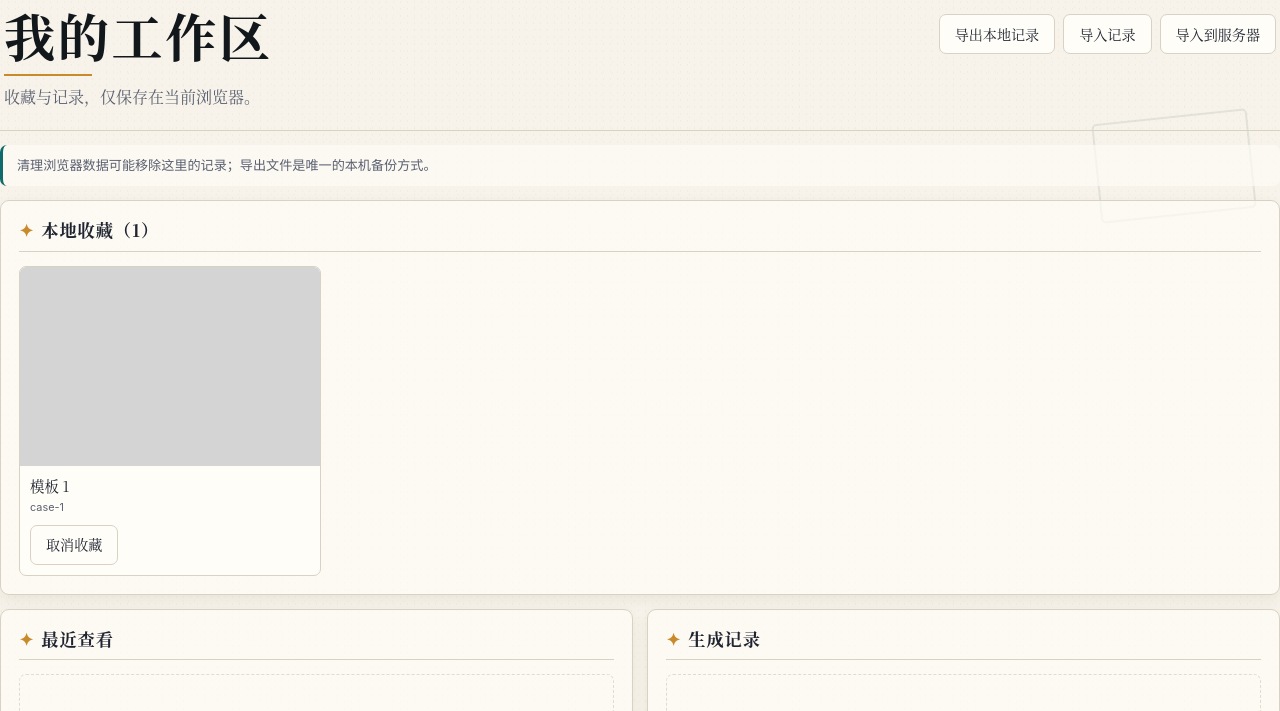
WorkspacePage (U10) › imports the local record to the server explicitly and renders the per-item report
Click the button with class "workspace__server-import": (1218, 34) [1160,14,1276,54]
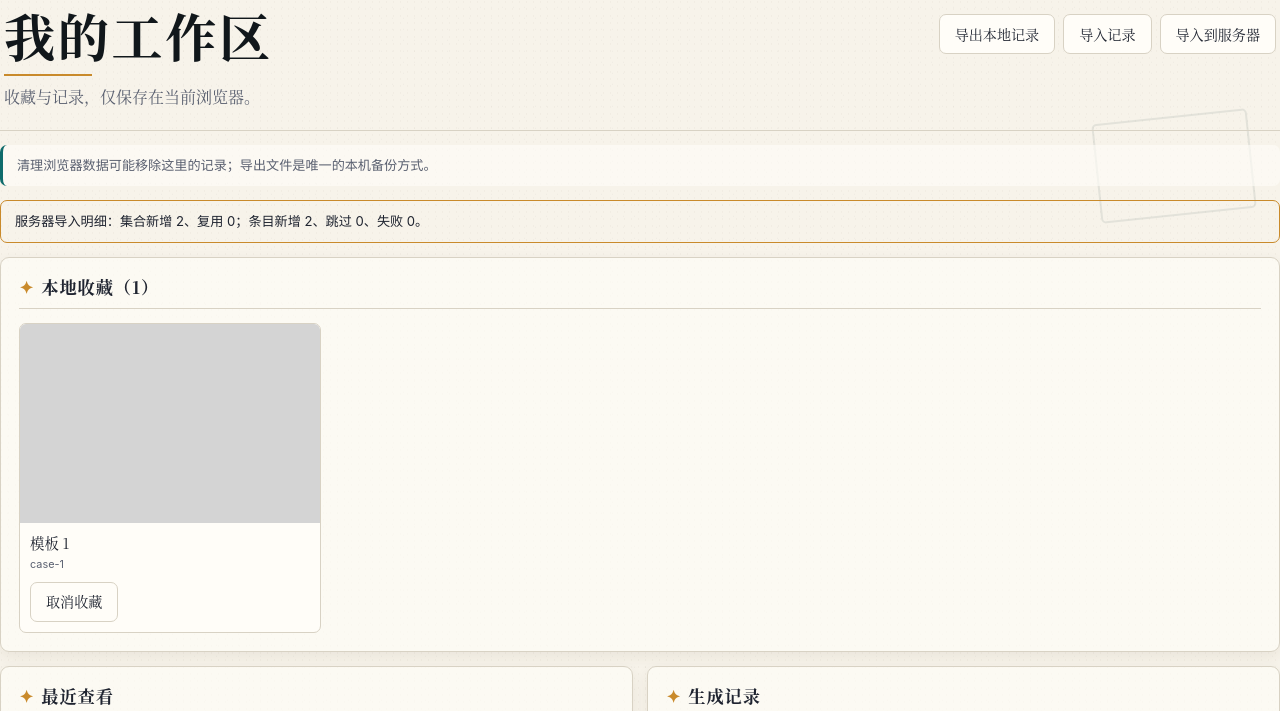
Expected: the message "服务器导入明细：集合新增 2、复用 0；条目新增 2、跳过 0、失败 0。" is shown, [0,200,1279,243]
Expected: the text "条目新增 2" is shown, [15,213,428,229]
